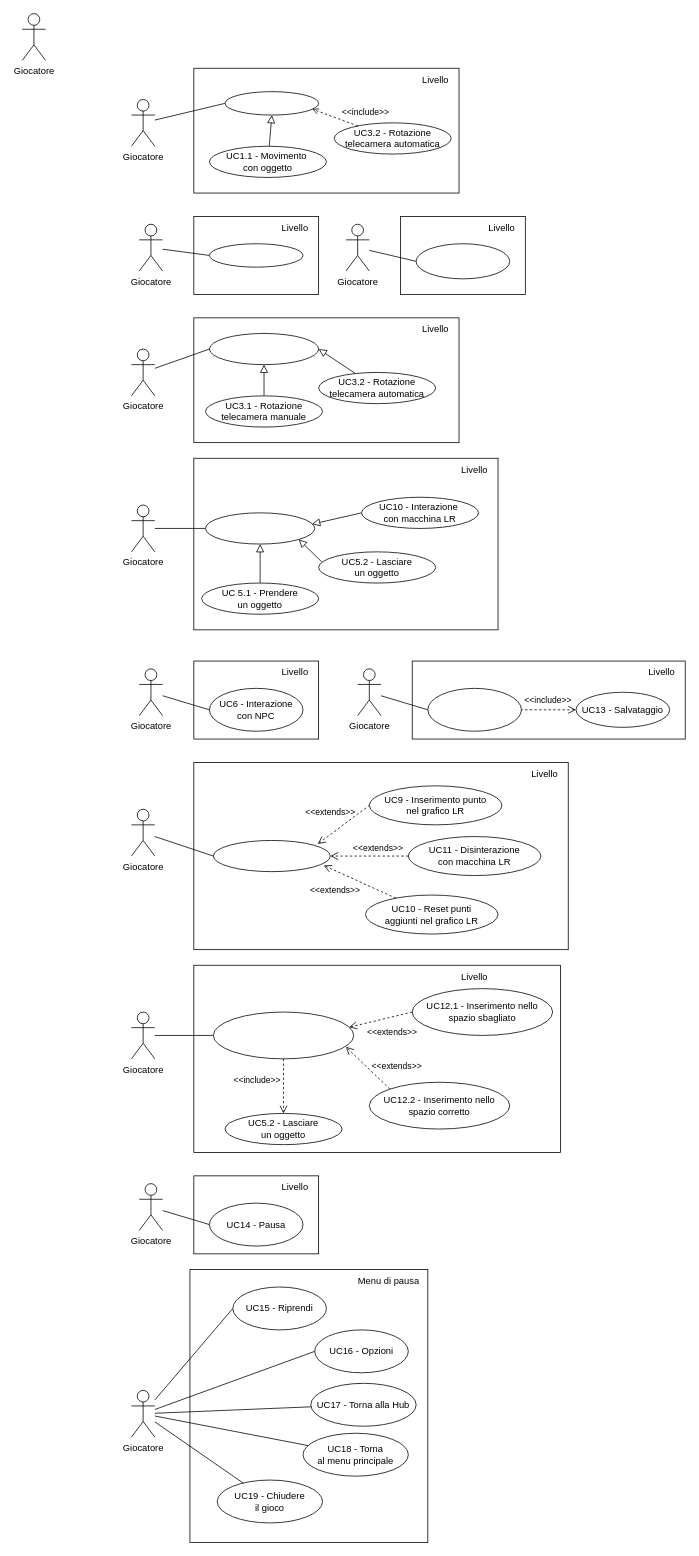
This 699x1556 diagram has some shape labels left out. The centre of each missing label's shape, as x and y in pixels:
UC1 - Movimento: the point at 271,103
UC12 - Inserimento oggetto nello spazio dedicato: the point at 283,1035
UC2 - Salto: the point at 256,255
UC3 - Rotazione telecamera: the point at 264,349
UC4 - Raccolta collezionabile: the point at 462,261
UC5 - Interazione con un oggetto: the point at 260,528
UC7 - Transizione scena: the point at 474,709
UC8 - Interazione con macchina LR: the point at 271,856
